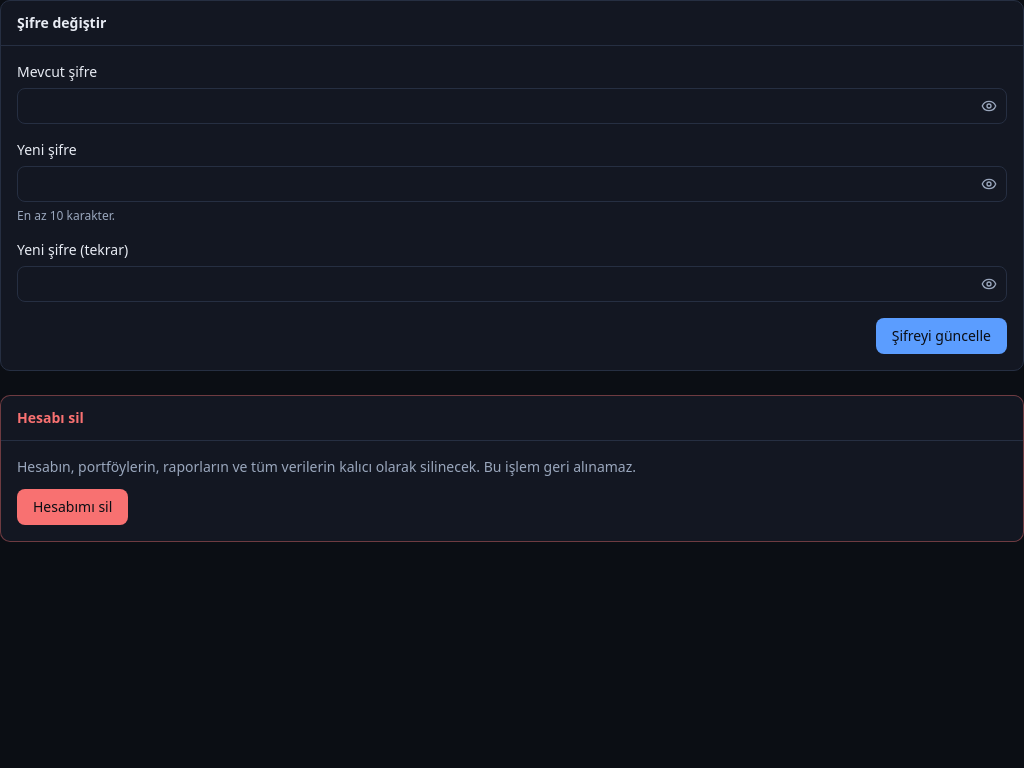
Test: SecurityTab — şifre › eşleşmeyen şifrede hata gösterir ve istek atmaz
The image size is (1024, 768).
In the password field labelled "Mevcut şifre": (512, 106) [17,88,1007,124], type "secret12345"
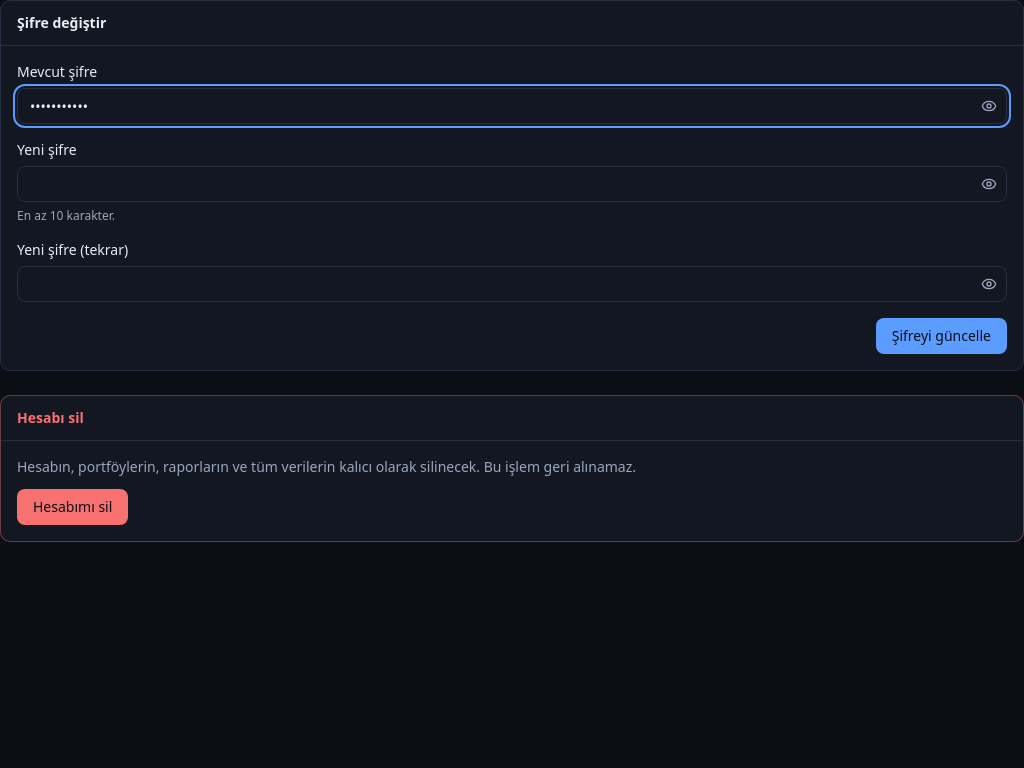
In the password field labelled "Yeni şifre": (512, 184) [17,166,1007,202], type "abcdefghij"
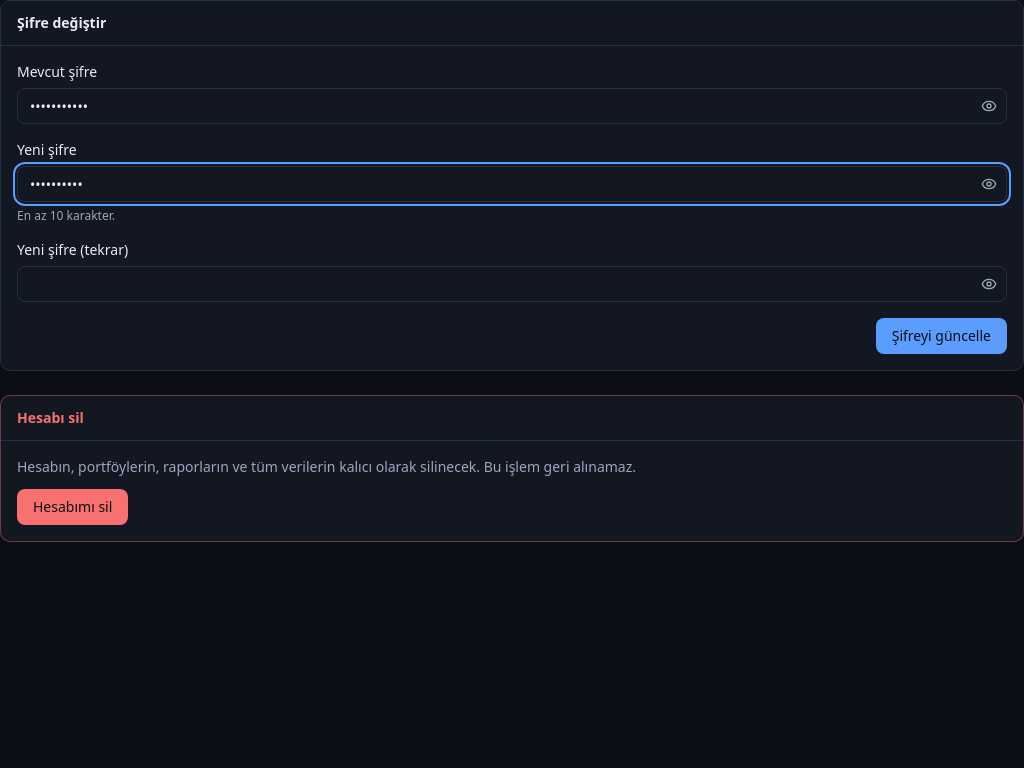
In the password field labelled "Yeni şifre (tekrar)": (512, 284) [17,266,1007,302], type "farkli"
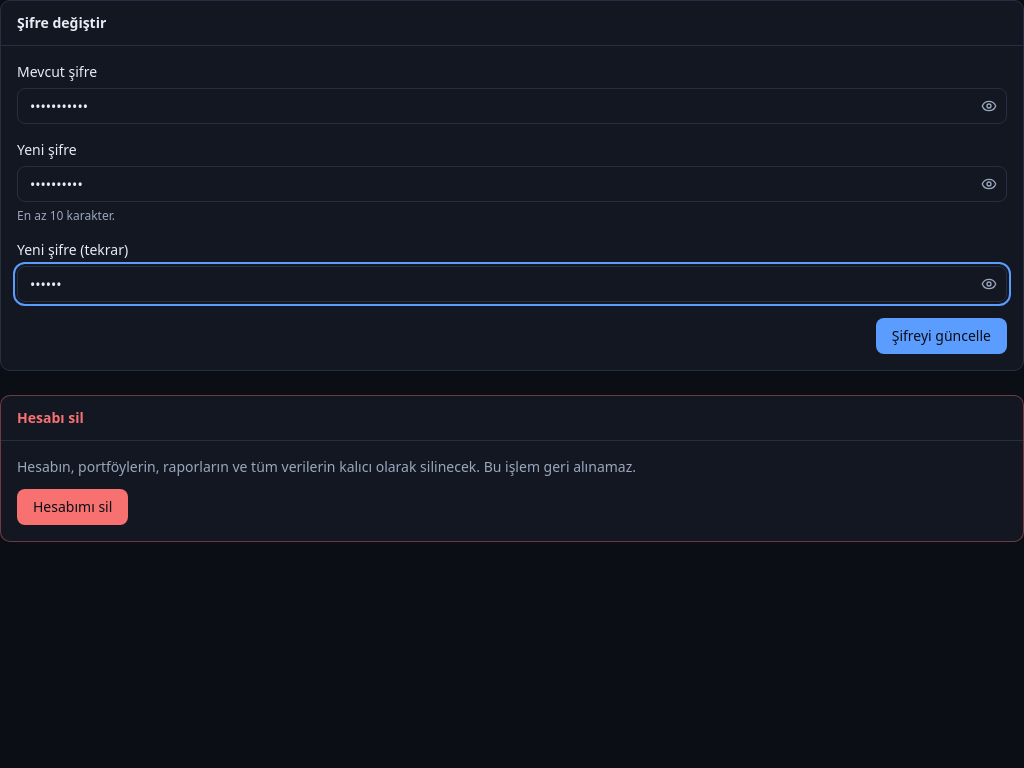
Click the button "Şifreyi güncelle": (941, 336) [876,318,1007,354]
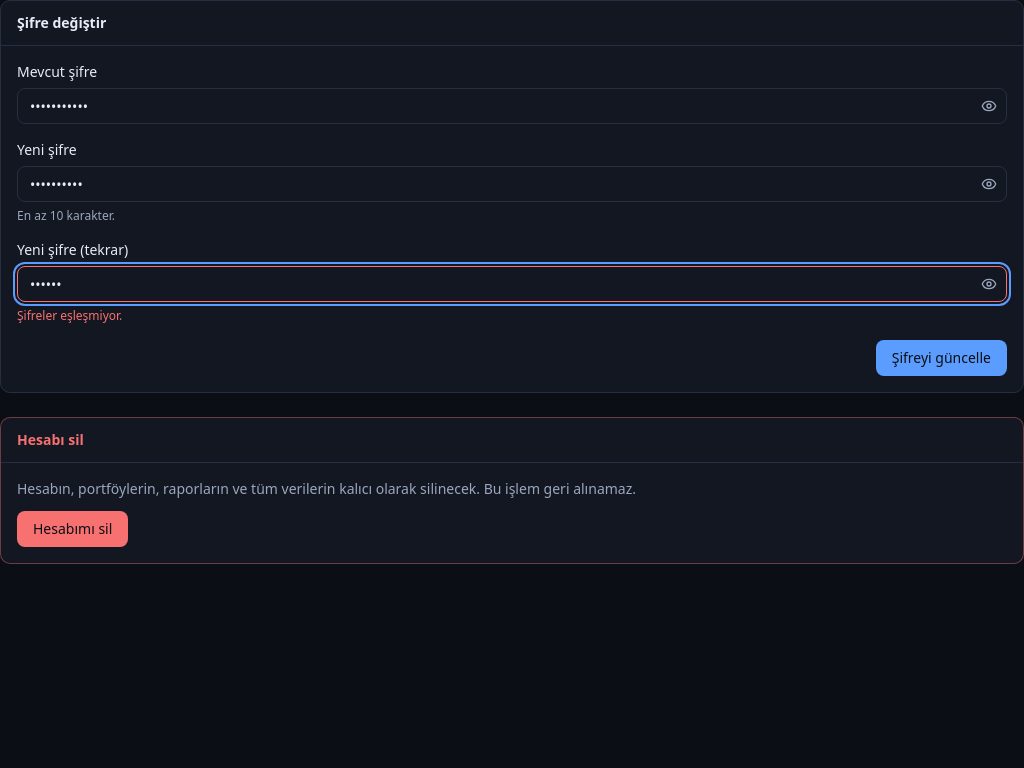
Now the text "Şifreler eşleşmiyor." is shown, box [17,307,122,324]
